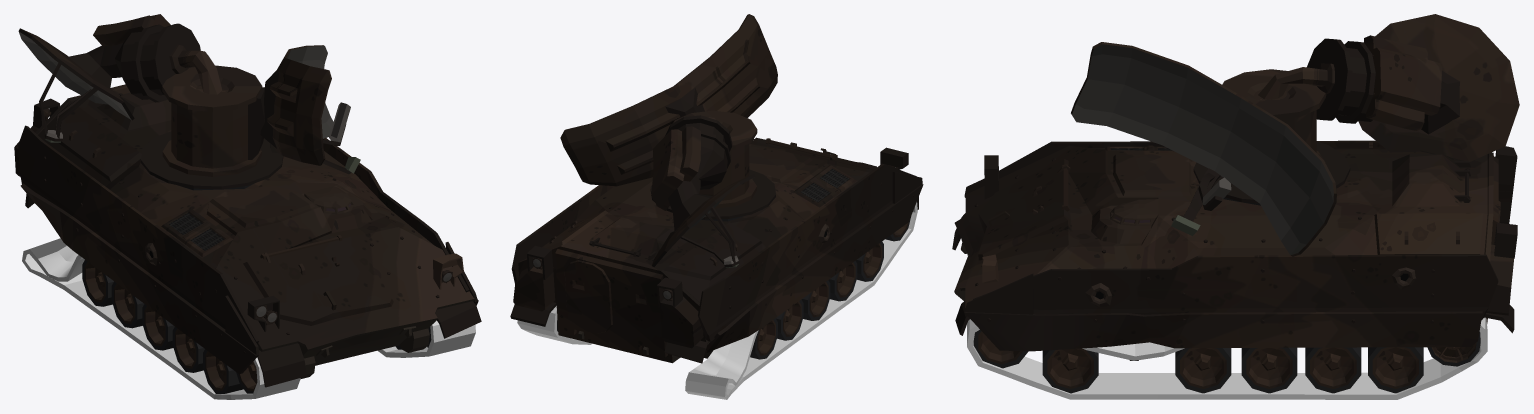
The model's file is SM_Veh_Radar_Tank_01_Destroyed.fbx.
3 views of the same model, side by side, from view 1: azimuth 30°, elevation 25°; view 2: azimuth 150°, elevation 25°; view 3: azimuth 270°, elevation 25° (orthographic). The views are drawn at different scales.
Parts seen in each view (by area): view 1: SM_Veh_Radar_Tank_01_Destroyed; view 2: SM_Veh_Radar_Tank_01_Destroyed; view 3: SM_Veh_Radar_Tank_01_Destroyed.
Part boxes in pixels (x1,y1,x2,y2): SM_Veh_Radar_Tank_01_Destroyed: (14, 14, 481, 399); SM_Veh_Radar_Tank_01_Destroyed: (510, 14, 923, 399); SM_Veh_Radar_Tank_01_Destroyed: (952, 14, 1519, 399).
Bounding box in the file's own units: 362 × 397 × 652.
